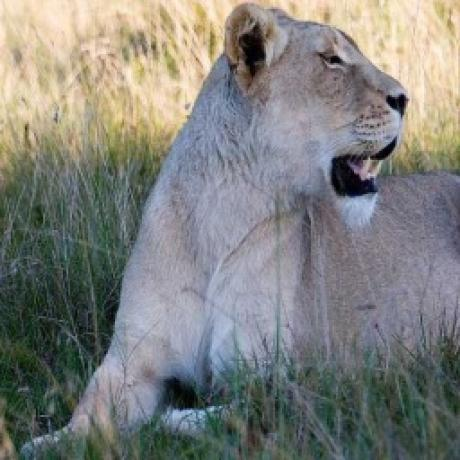Lion: (23, 0, 460, 455)
